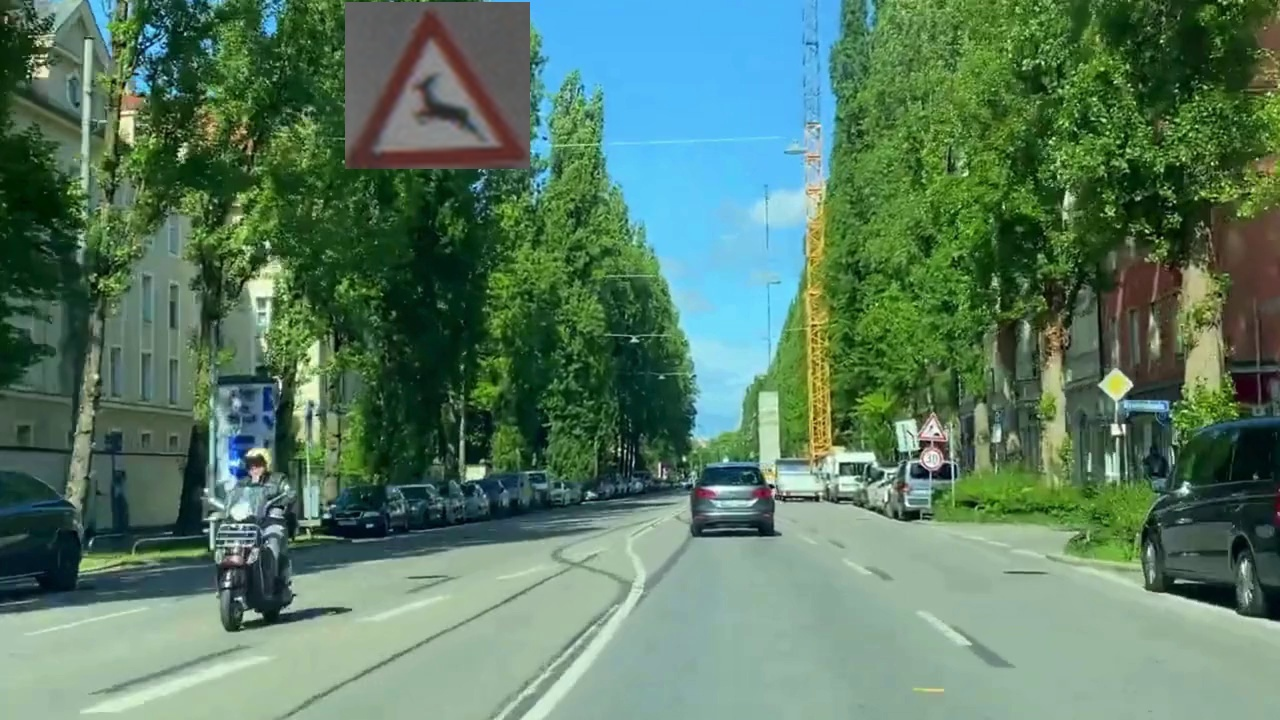Wild animals: (345, 2, 530, 169)
